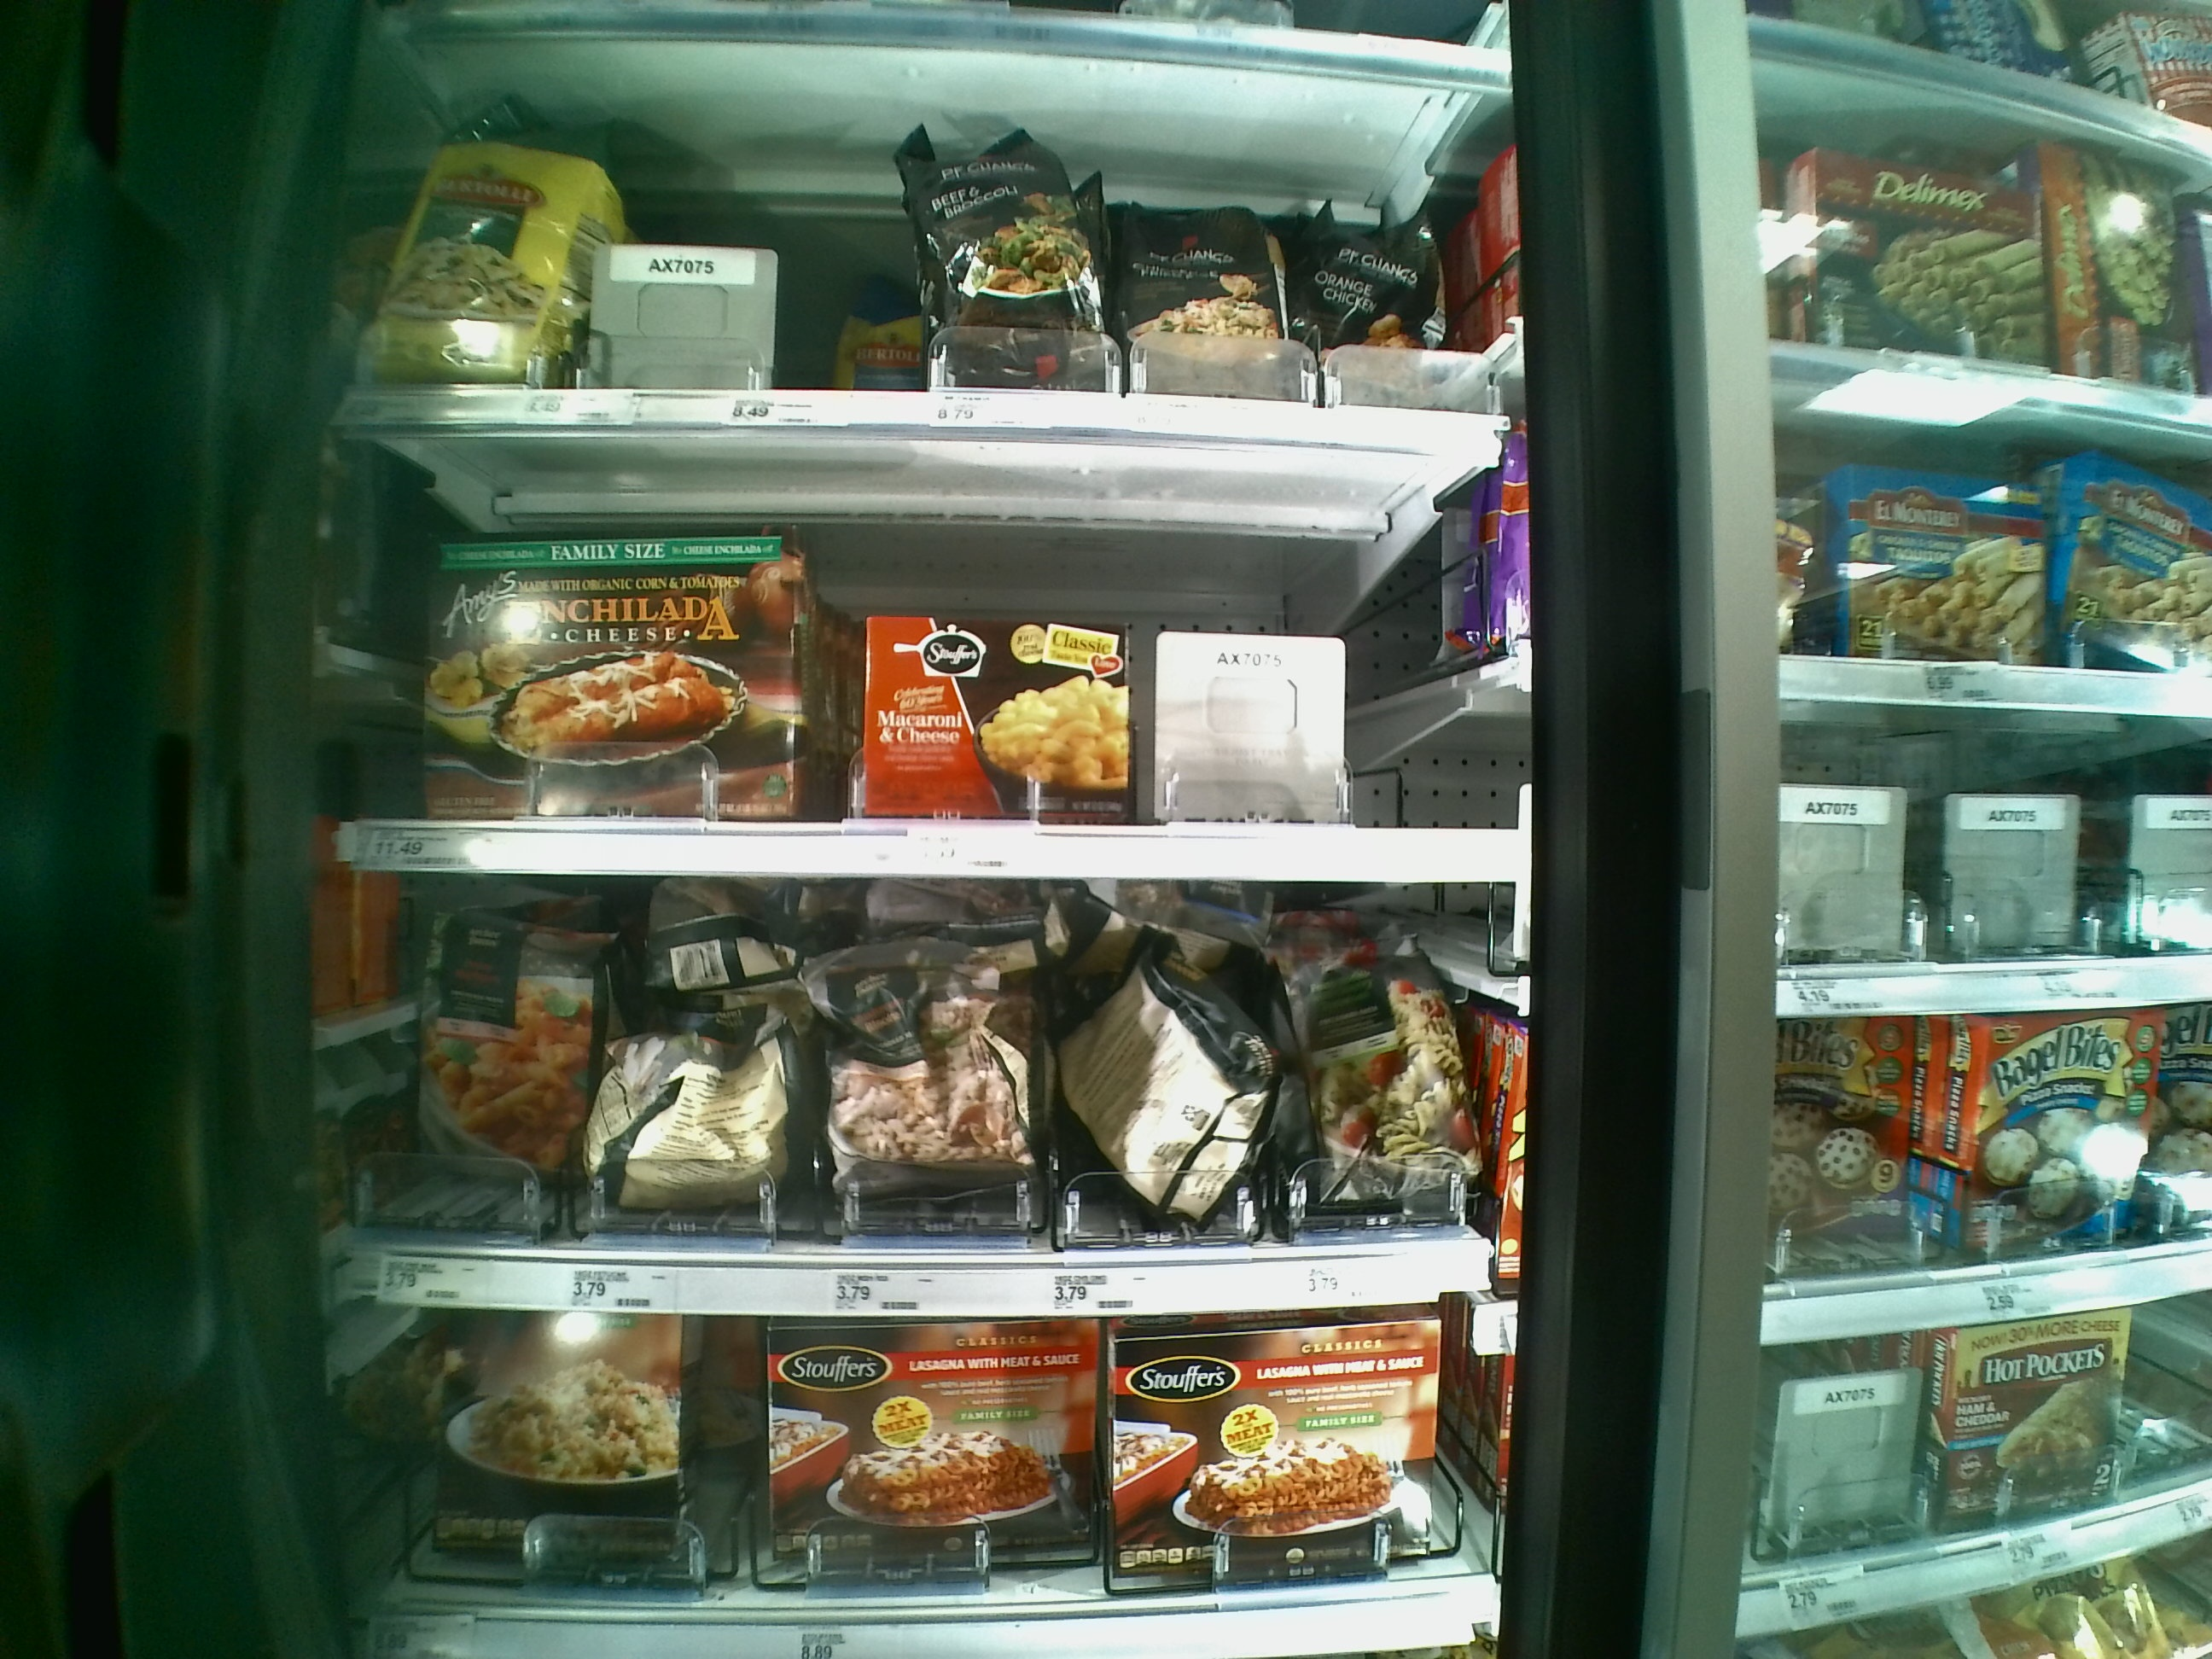shelf: (352, 444, 1521, 894), (355, 864, 1496, 1300), (368, 33, 1491, 457), (376, 1300, 1494, 1659)
